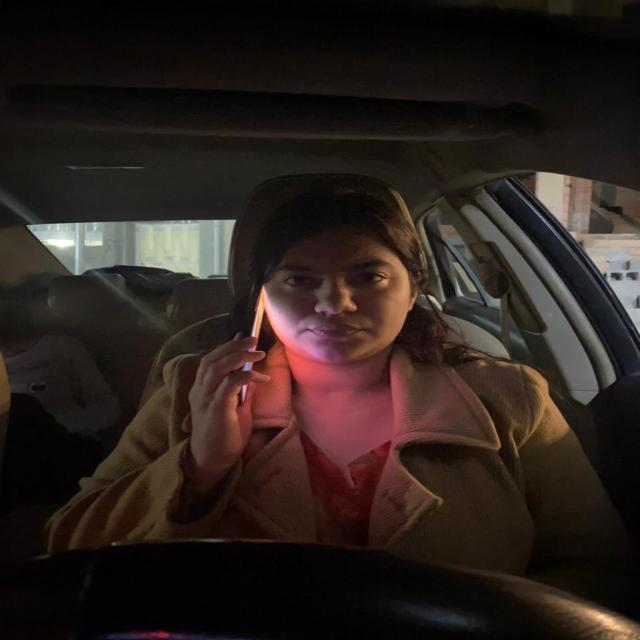mobile: (238, 284, 272, 405)
person: (271, 203, 420, 369)
